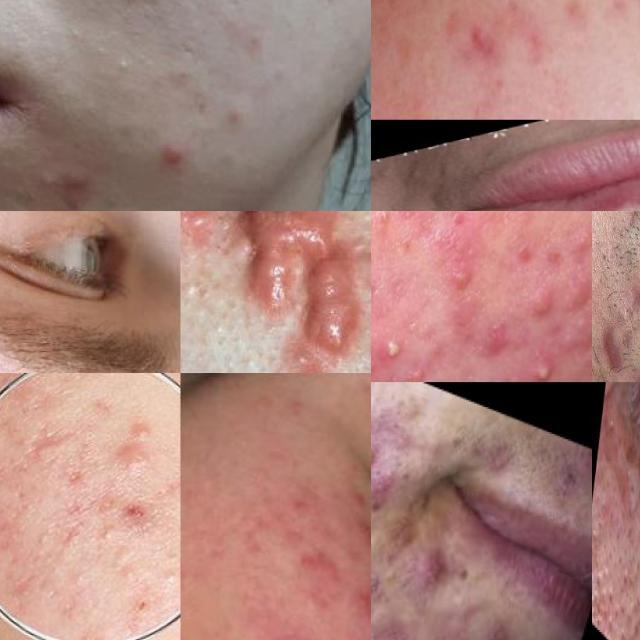acne_scars: (592, 311, 632, 381), (30, 408, 76, 453), (62, 502, 90, 548), (124, 497, 160, 525)
comedone: (104, 48, 136, 90), (620, 453, 638, 520), (154, 558, 180, 587), (120, 557, 145, 587), (72, 562, 99, 589), (99, 512, 117, 551), (33, 167, 56, 197), (36, 526, 52, 551)
cystic: (394, 530, 485, 616)
keloid: (234, 211, 371, 364), (286, 359, 336, 373)
papule: (406, 211, 495, 288), (537, 278, 592, 382), (452, 6, 505, 81), (144, 120, 201, 188), (435, 255, 492, 311), (551, 211, 591, 285), (511, 282, 562, 338), (550, 255, 592, 312), (328, 463, 371, 517), (58, 161, 103, 211), (332, 571, 371, 627), (371, 211, 442, 241), (393, 344, 440, 382), (124, 410, 163, 447), (342, 515, 371, 560), (269, 620, 312, 640)
pustule: (512, 329, 573, 382), (371, 320, 416, 379), (394, 161, 430, 185), (371, 157, 396, 183)
sebo-crystan-conglo: (371, 403, 408, 523), (512, 344, 576, 382)
